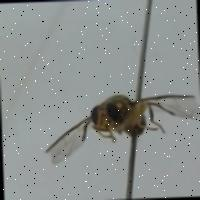Oriental-fruit-fly: (31, 80, 200, 180)
